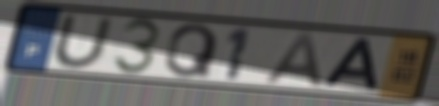1: (224, 27, 252, 83)
3: (109, 16, 163, 77)
A: (260, 30, 328, 90), (320, 36, 381, 93)
Q: (162, 22, 222, 80)
U: (50, 14, 116, 71)
